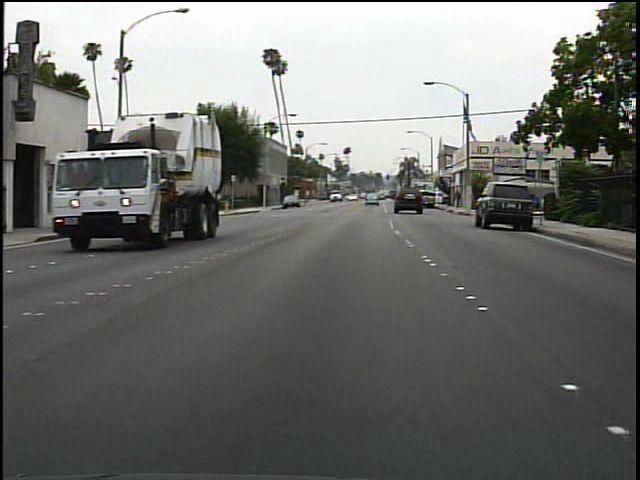person: (449, 185, 466, 214)
